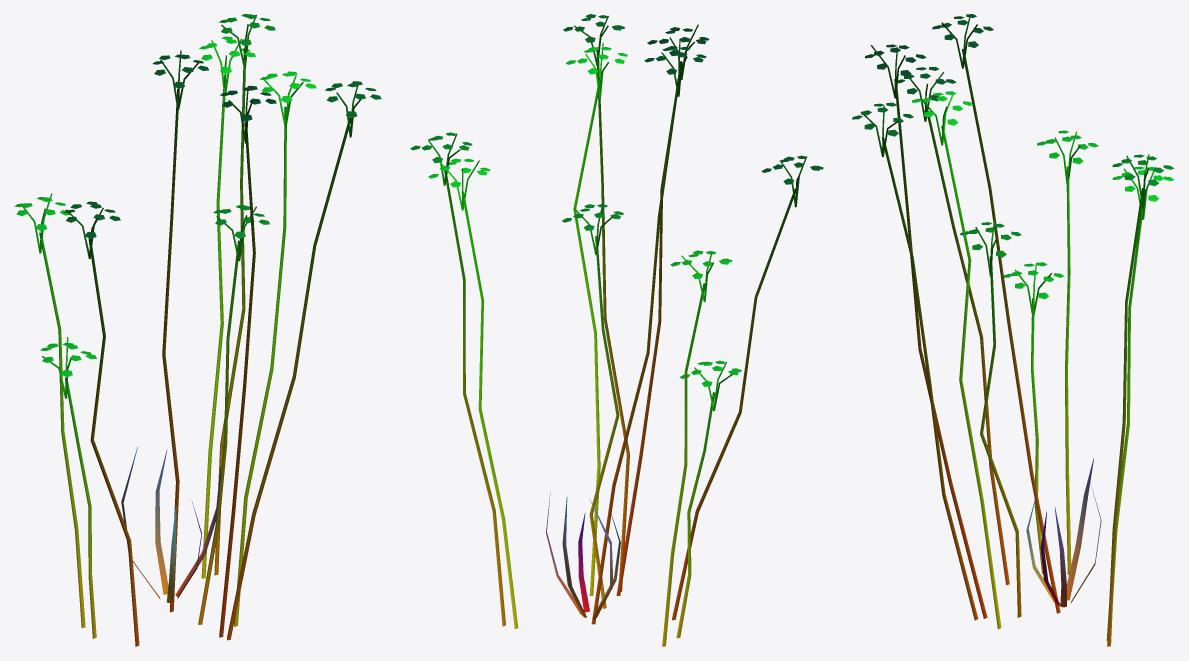
Rendered from SM_Flower_Yarrow_B_LOD2.fbx.
3 renders of one model, left to right at view 1: azimuth 30°, elevation 25°; view 2: azimuth 150°, elevation 25°; view 3: azimuth 270°, elevation 25°, orthographic. The views are drawn at different scales.
Visible parts, largest first — view 1: SM_Flower_Yarrow_B_LOD2; view 2: SM_Flower_Yarrow_B_LOD2; view 3: SM_Flower_Yarrow_B_LOD2.
Part boxes in pixels (x1=…): SM_Flower_Yarrow_B_LOD2: x1=14, y1=14, x2=381, y2=646; SM_Flower_Yarrow_B_LOD2: x1=410, y1=14, x2=823, y2=646; SM_Flower_Yarrow_B_LOD2: x1=852, y1=14, x2=1173, y2=646.
Bounding box in the file's own units: 0.3438 × 0.6086 × 0.309.
